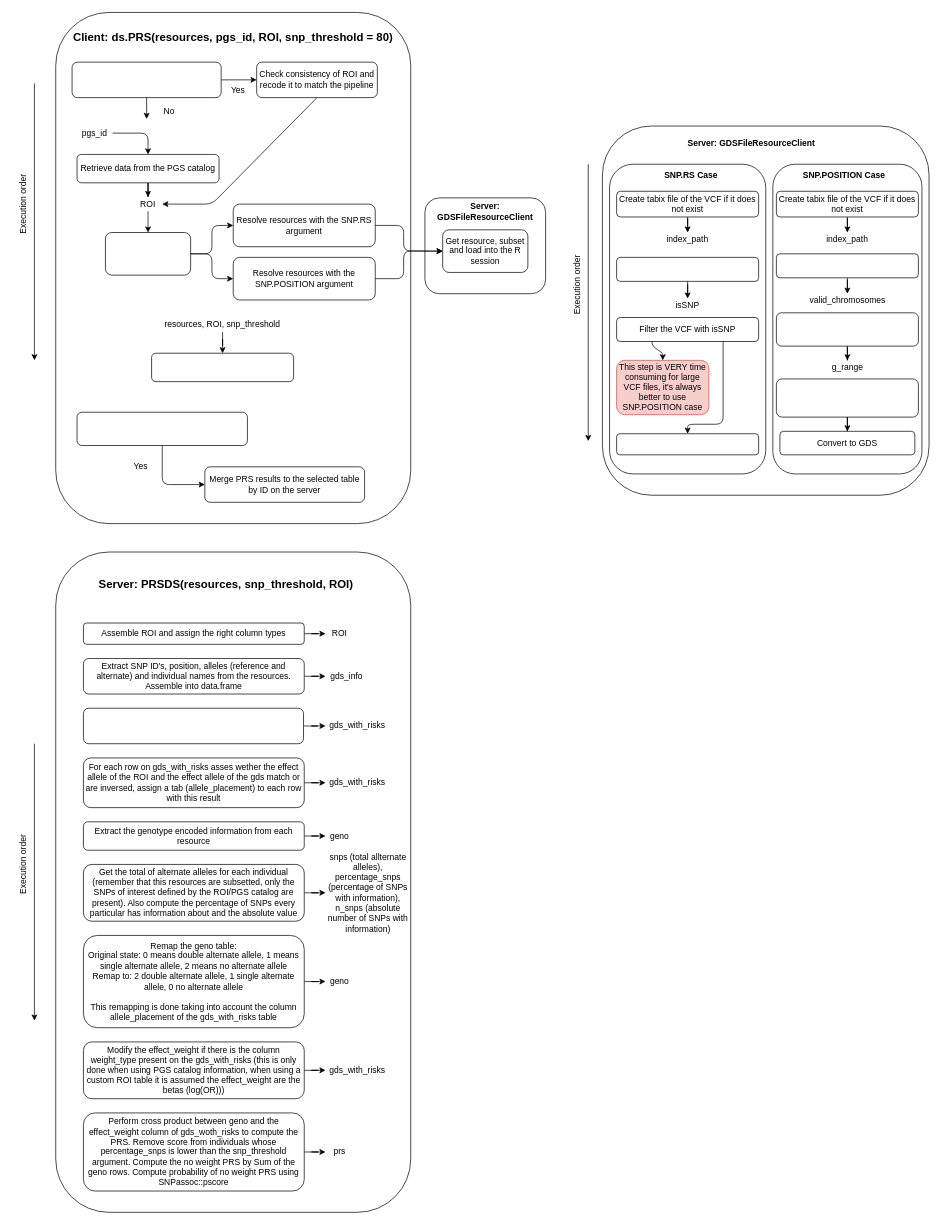
Some shapes in this 941 by 1225 pixel diagram are drawn without their labels. The centre of each missing label's shape, as x and y in pixels:
"Are the table/table_id_column arguments supplied?" goes at point 161,429.
"Call server function" goes at point 222,367.
"Check which chromosomes are present on the VCF" goes at point 847,265.
"Convert filtered VCF to GDS" goes at point 687,444.
"Create filter rule using SNP.RS" goes at point 687,269.
"Create genomic ranges object using the valid_chromosomes and the SNP.POSITIONS" goes at point 847,329.
"Is the ROI argument supplied?" goes at point 146,79.
"Perform table joint between gds_info and ROI" goes at point 193,726.
"Read into the R session only the VCF parts that correspond to the g_range object" goes at point 847,397.
"The ROI contains SNPs IDs or SNPs positions?" goes at point 148,253.
